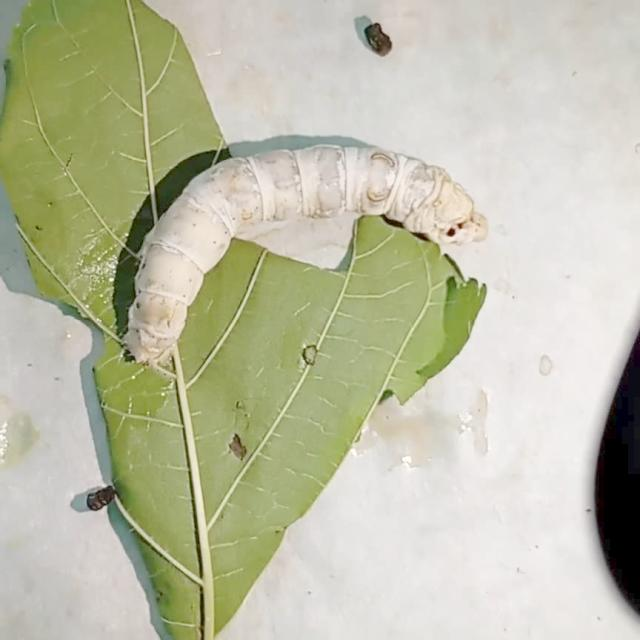Grasserie: (111, 114, 495, 374)
